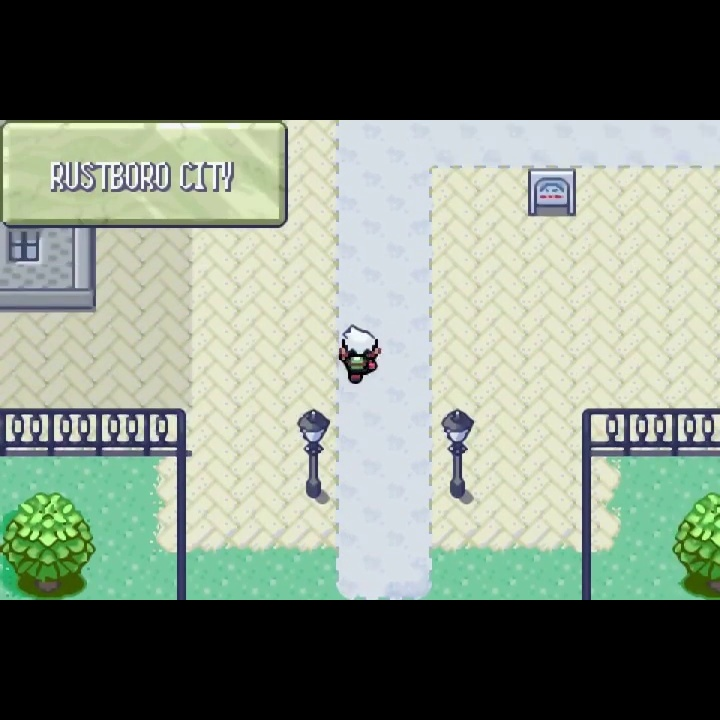npc: (335, 322, 382, 387)
wall: (1, 491, 96, 600), (670, 491, 720, 600)
